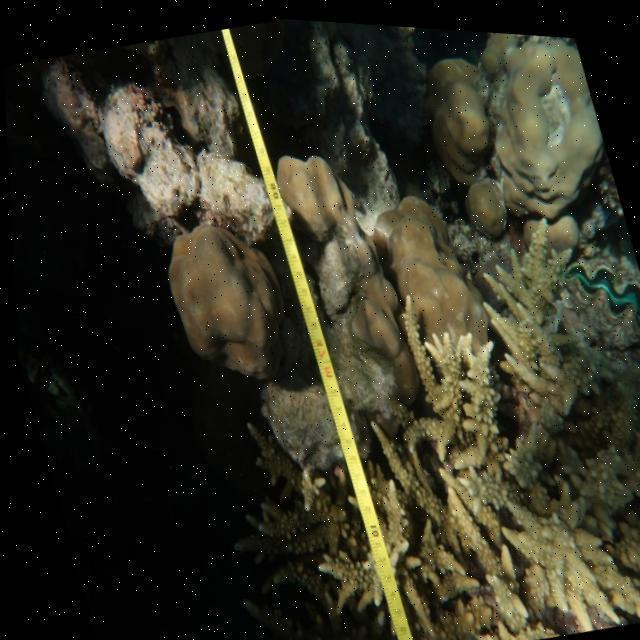Bleached Coral: (304, 185, 640, 640)
